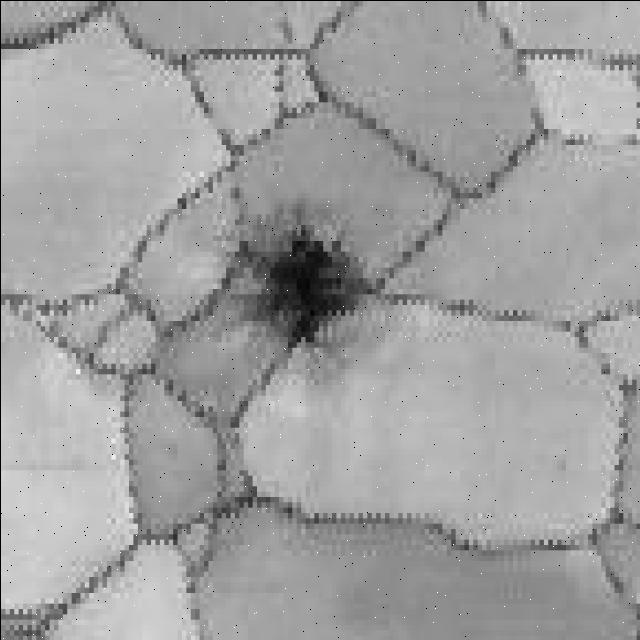good_void: (234, 207, 386, 359)
